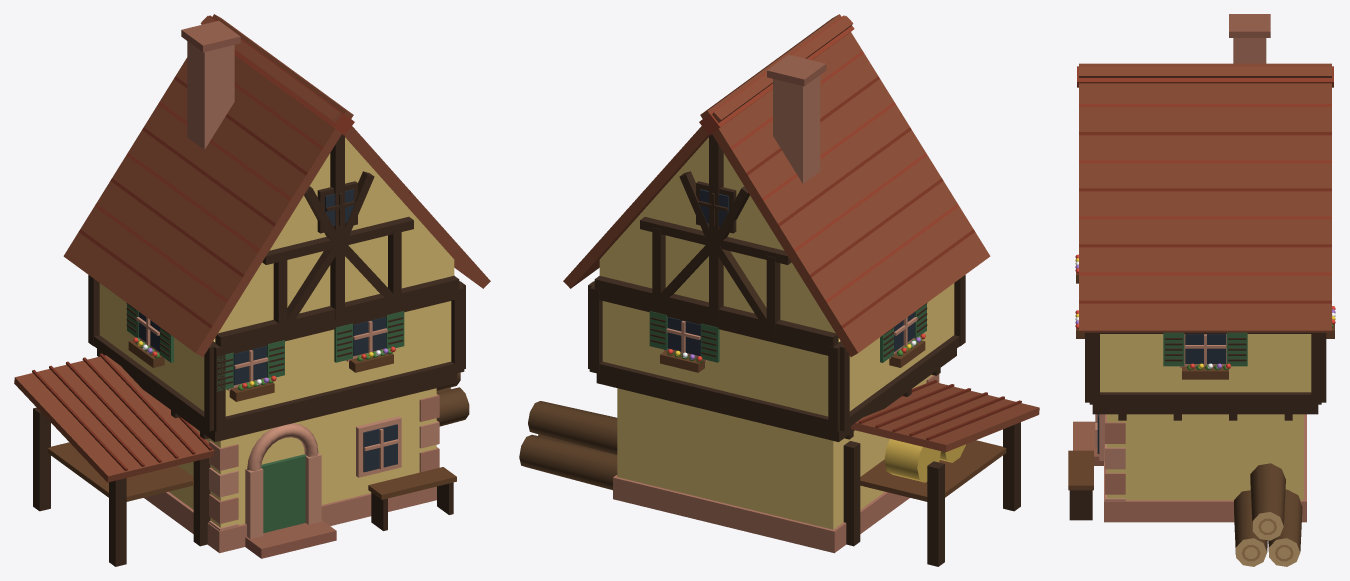
Rendered from wohnhaus_1.glb.
The picture shows the model from 3 angles, left to right: view 1: azimuth 30°, elevation 25°; view 2: azimuth 150°, elevation 25°; view 3: azimuth 270°, elevation 25°; orthographic projection. The views are drawn at different scales.
Bounding box in the file's own units: 4.53 × 4.58 × 2.58.
